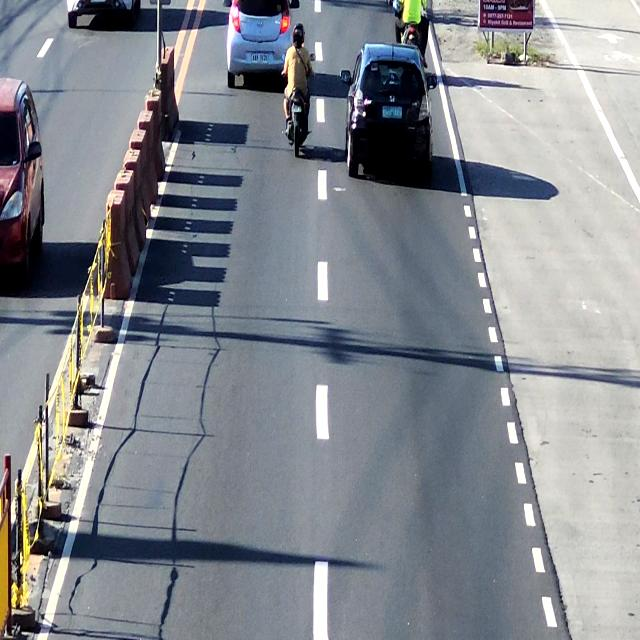Car: (344, 51, 428, 173), (228, 0, 300, 87)
License-Plate: (382, 102, 408, 124), (250, 53, 268, 66)
Motorcycle: (280, 26, 313, 160)
